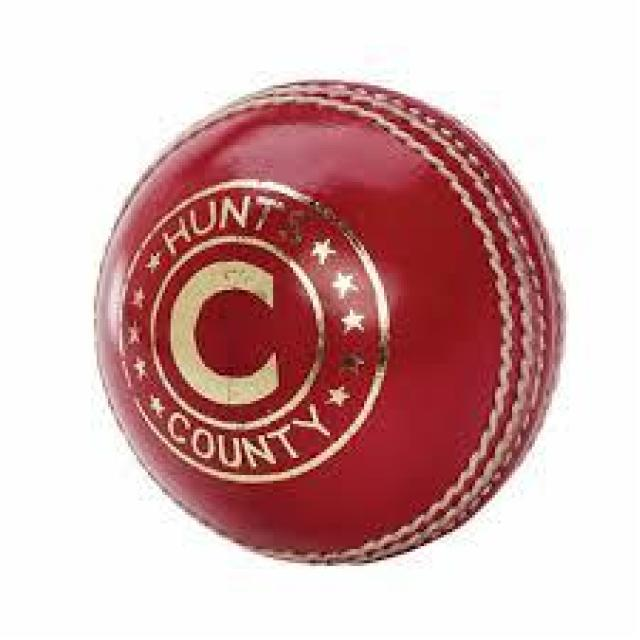ball: (97, 80, 566, 566)
